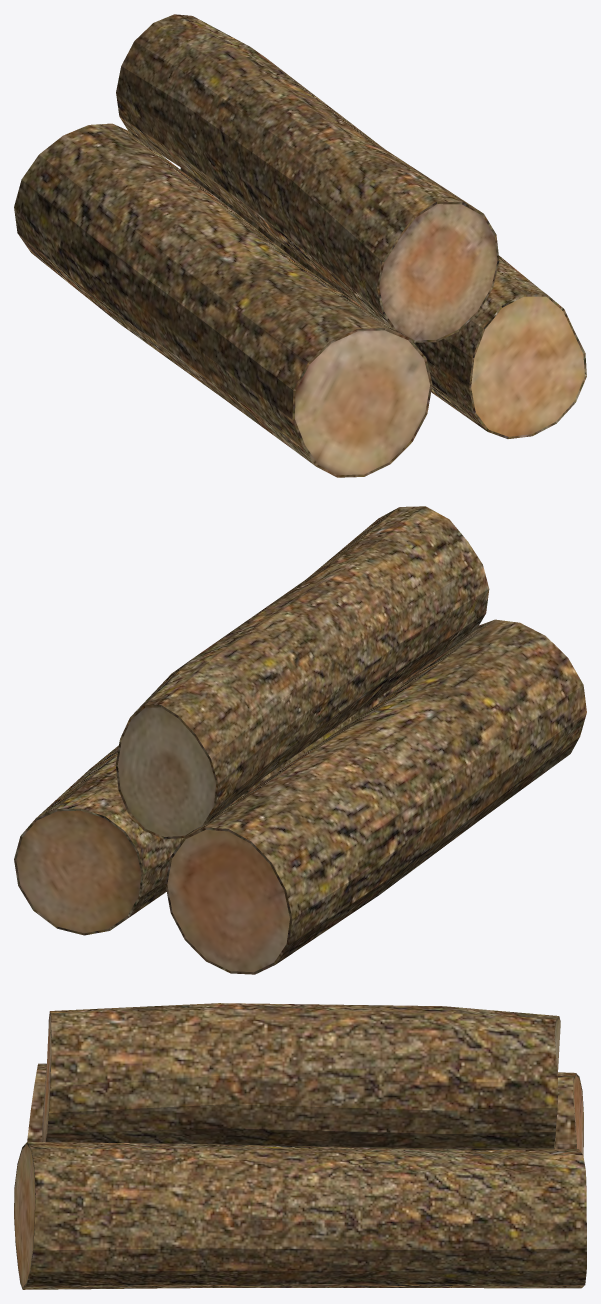
File: wood_logs.glb
3 renders of one model, top to bottom at view 1: azimuth 30°, elevation 25°; view 2: azimuth 150°, elevation 25°; view 3: azimuth 270°, elevation 25°, orthographic. The views are drawn at different scales.
Size of the model in its own units: 40.25 by 31.82 by 69.89.
Materials: 1 (1 with a texture image).
